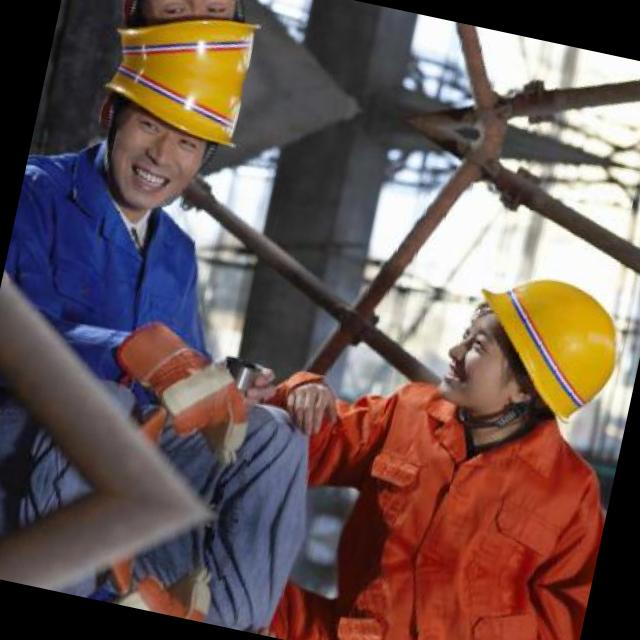helmet: (415, 232, 640, 476), (64, 52, 252, 229), (93, 0, 275, 89)
